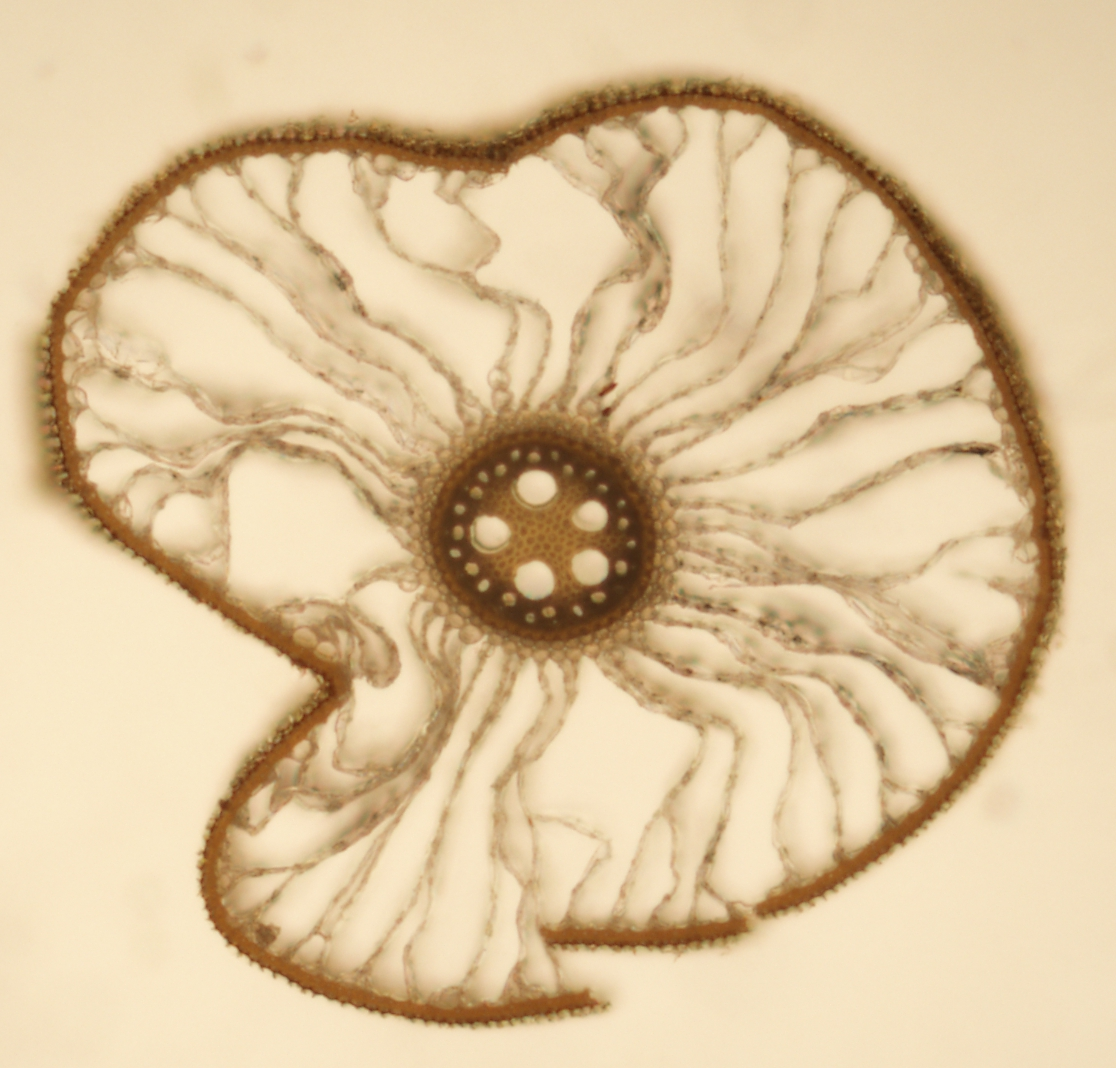lm: (513, 560, 554, 600), (469, 514, 511, 553), (516, 469, 558, 506), (572, 549, 609, 586), (571, 499, 609, 532)
